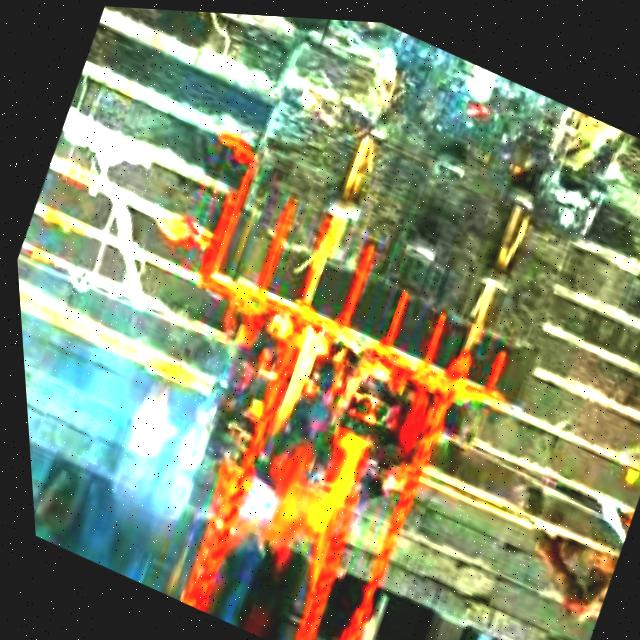Fire: (194, 304, 409, 595)
